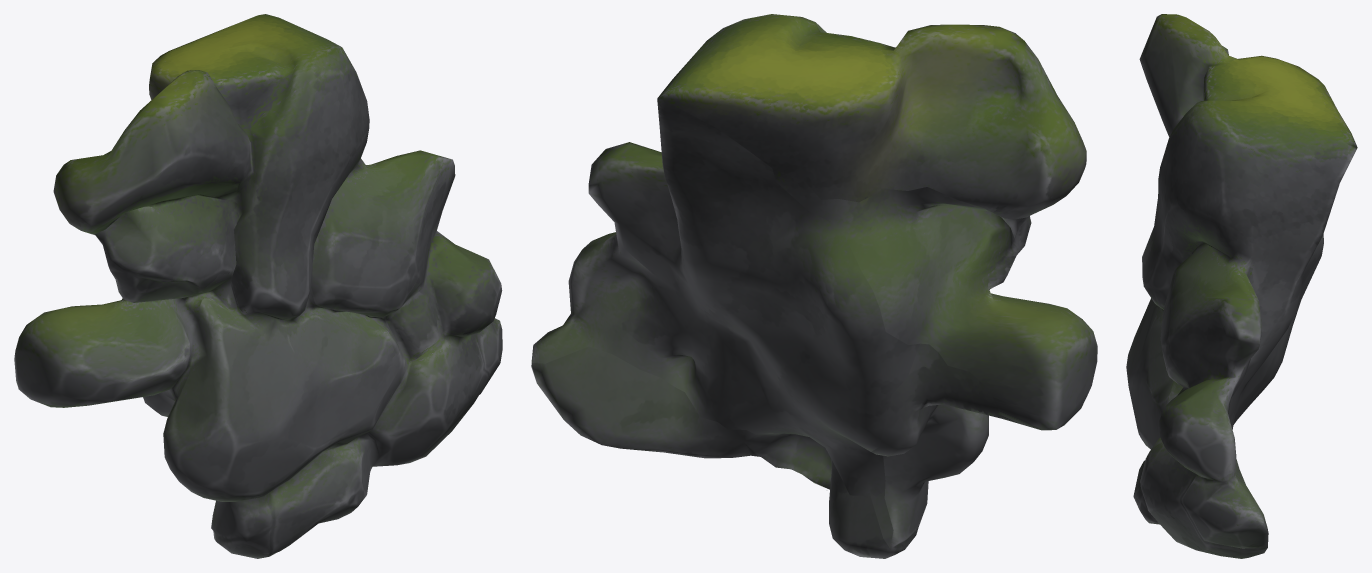
The model's file is Stonewall02.fbx.
3 renders of one model, left to right at view 1: azimuth 30°, elevation 25°; view 2: azimuth 150°, elevation 25°; view 3: azimuth 270°, elevation 25°, orthographic. The views are drawn at different scales.
Parts seen in each view (by area): view 1: Stonewall02; view 2: Stonewall02; view 3: Stonewall02.
Boxes of the visible parts, x1,y1,x2,y2 form: Stonewall02: (14,14,502,558); Stonewall02: (531,14,1097,558); Stonewall02: (1126,14,1357,558).
Size of the model in its own units: 200 by 194 by 88.18.
1 material, 1 textured.
